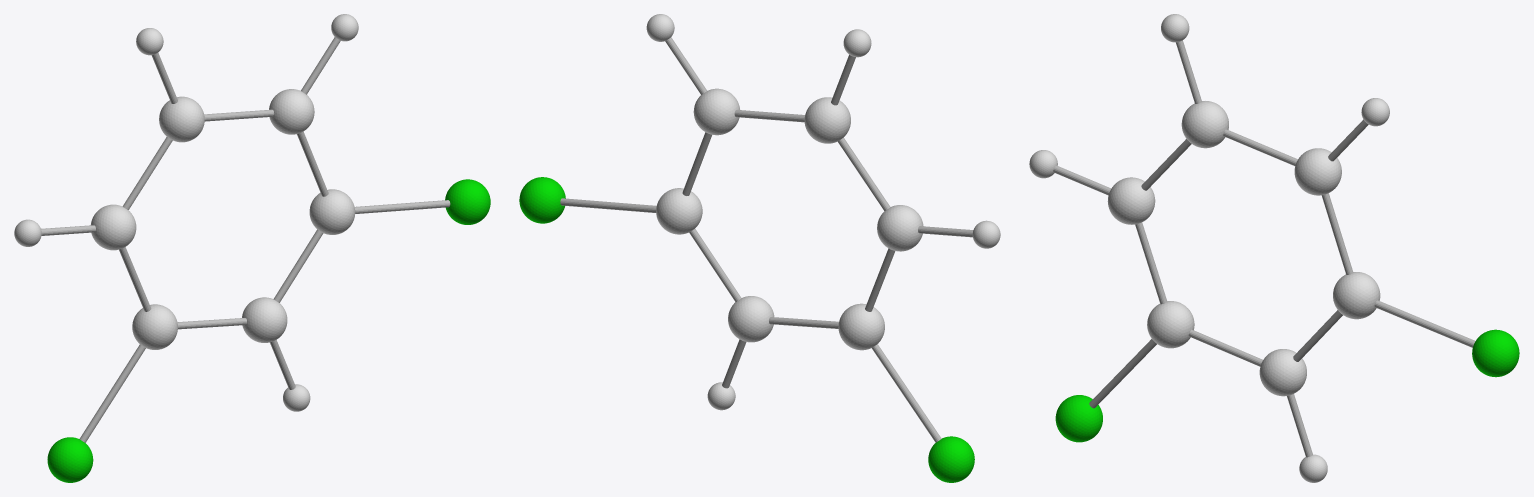
File: Clc1cc_Cl_ccc1.glb
3 renders of one model, left to right at view 1: azimuth 30°, elevation 25°; view 2: azimuth 150°, elevation 25°; view 3: azimuth 330°, elevation 25°, orthographic. The views are drawn at different scales.
Parts seen in each view (by area): view 1: world; view 2: world; view 3: world.
Boxes of the visible parts, x1=… form: world: x1=14, y1=14, x2=490, y2=482; world: x1=519, y1=14, x2=1000, y2=482; world: x1=1029, y1=14, x2=1519, y2=482.
Bounding box in the file's own units: 5.92 × 5.13 × 0.6091.
